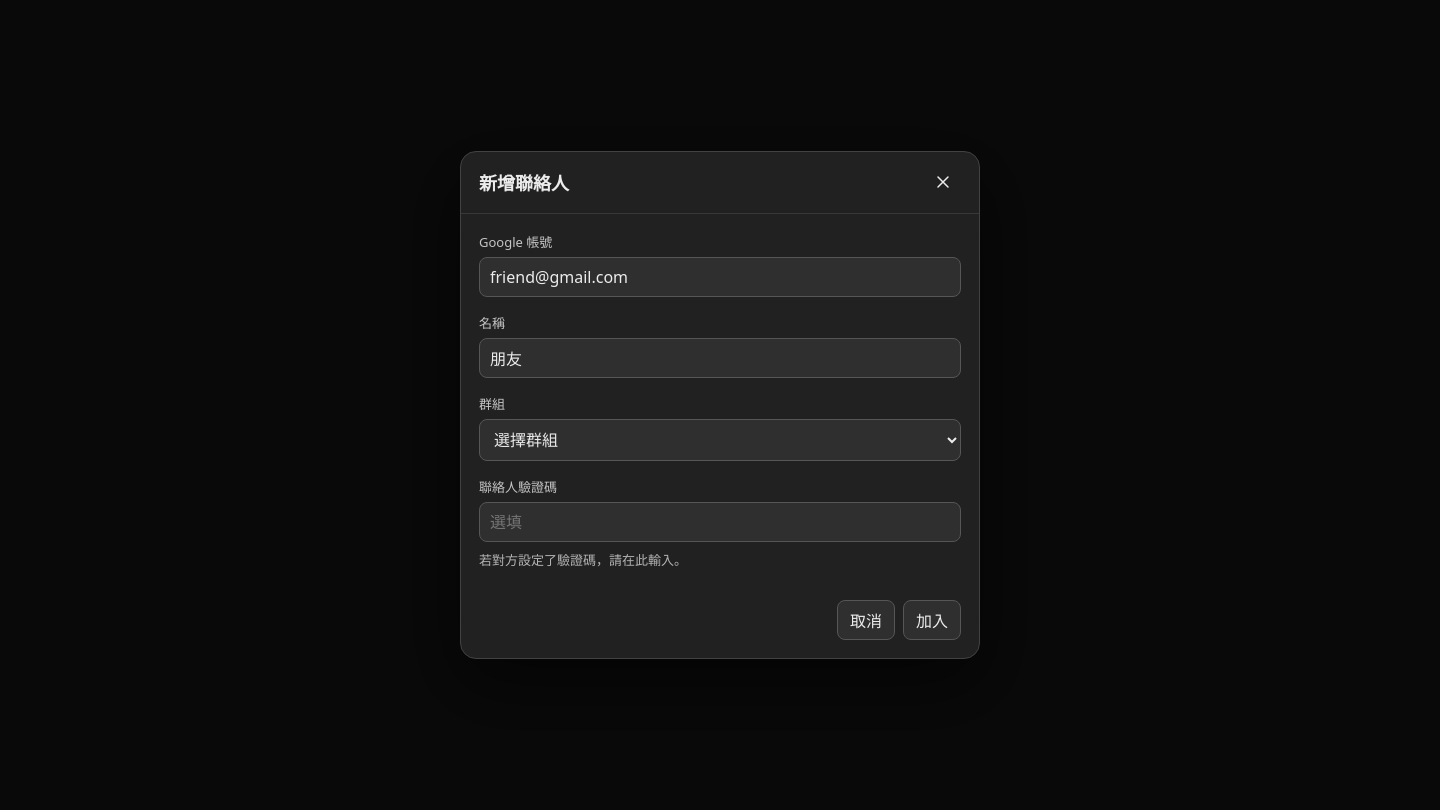
Scenario: AddFriendDialog › requires a selected group before submitting
The image size is (1440, 810).
Click the button "加入". click: (932, 620)
box: [903,600,961,640]
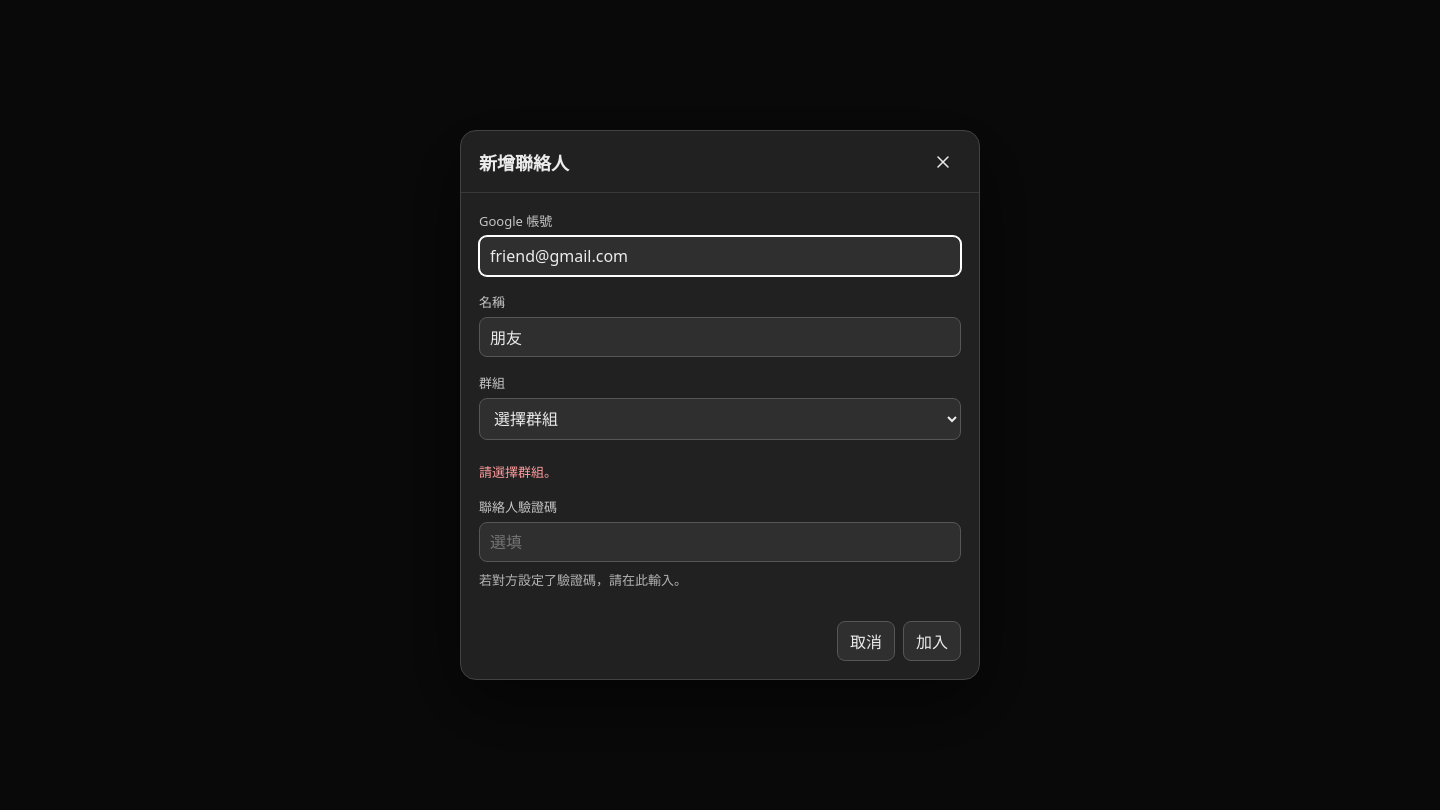
Result: the message shows "請選擇群組" at [479,463,557,481]
